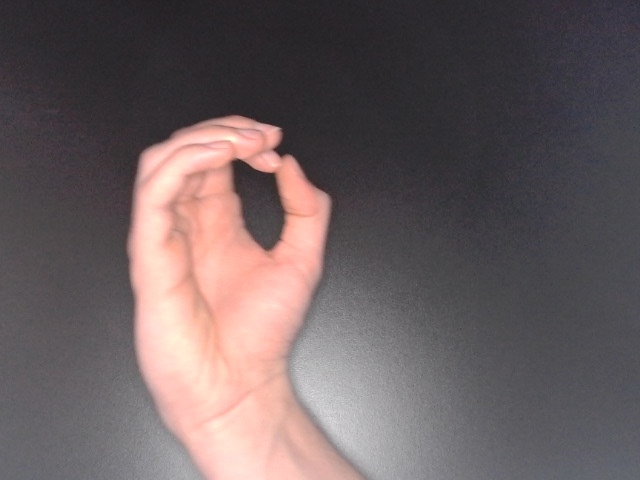o: (119, 110, 338, 455)
